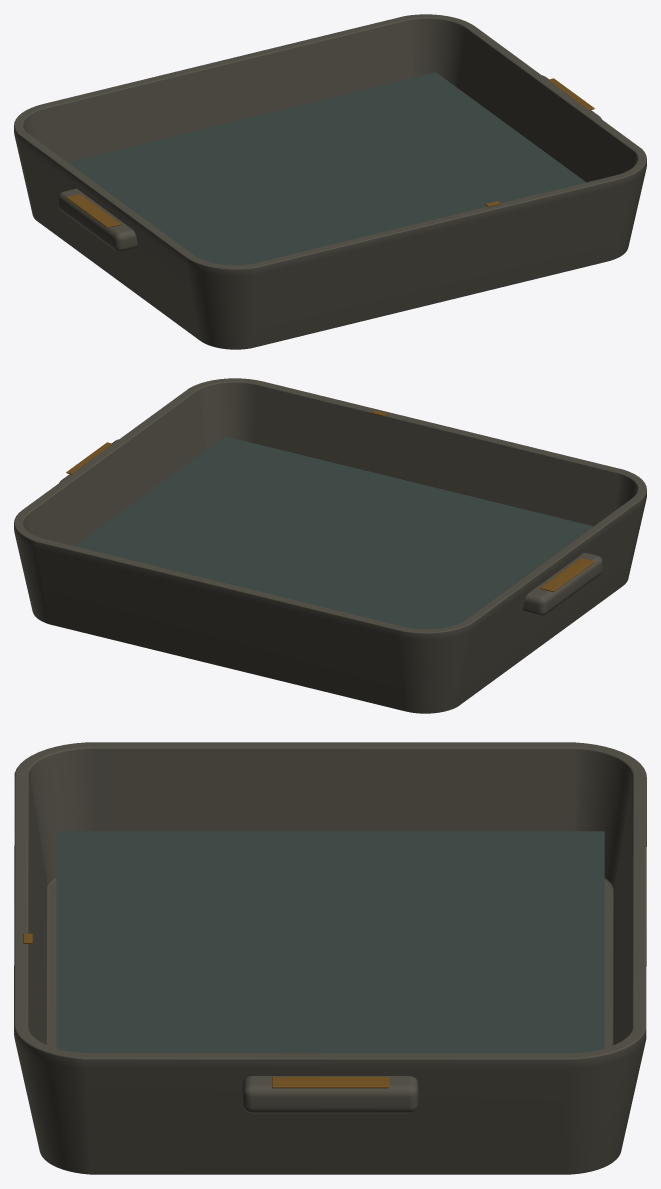
File: C10_DeveloperTray.fbx
The picture shows the model from 3 angles, top to bottom: view 1: azimuth 30°, elevation 25°; view 2: azimuth 150°, elevation 25°; view 3: azimuth 270°, elevation 25°; orthographic projection. The views are drawn at different scales.
Parts seen in each view (by area): view 1: Body_Mesh, LiquidMesh; view 2: Body_Mesh, LiquidMesh; view 3: Body_Mesh, LiquidMesh.
Part boxes in pixels (<box>): Body_Mesh: <box>14,14,646,349</box>; LiquidMesh: <box>67,72,586,265</box>; Body_Mesh: <box>14,378,646,713</box>; LiquidMesh: <box>75,436,593,629</box>; Body_Mesh: <box>14,742,646,1174</box>; LiquidMesh: <box>56,831,604,1053</box>.
Bounding box in the file's own units: 0.344 × 0.061 × 0.27.
